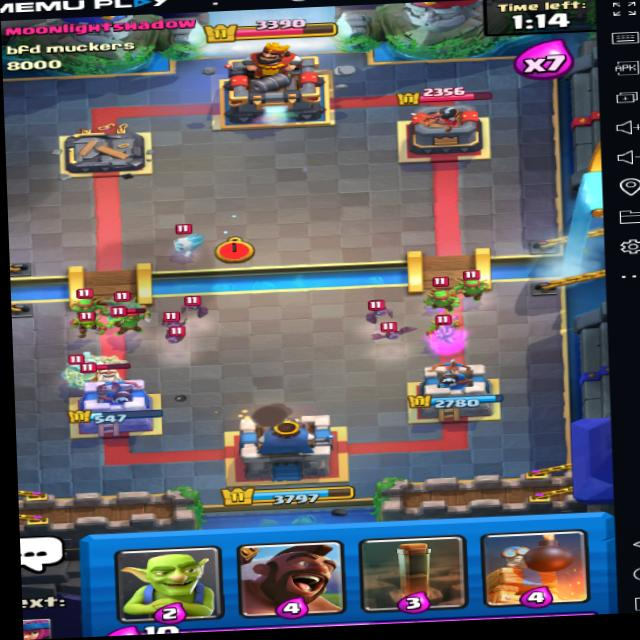bats: (372, 320, 420, 347), (174, 296, 222, 321), (156, 321, 198, 346), (361, 297, 398, 321)
goblin: (425, 312, 478, 340), (69, 309, 110, 338)
ice-spirit: (161, 224, 208, 257)
monk: (71, 359, 144, 402)
spear-goblin: (52, 282, 107, 315), (98, 306, 145, 341), (424, 277, 465, 316), (452, 267, 493, 303)
